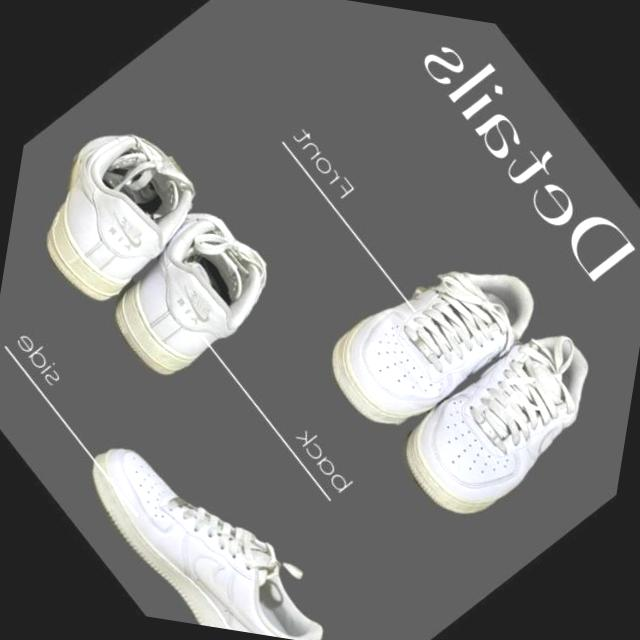nike_original_airforce: (53, 395, 370, 640), (368, 288, 634, 558), (299, 208, 565, 478), (0, 85, 234, 329), (74, 176, 298, 402)
